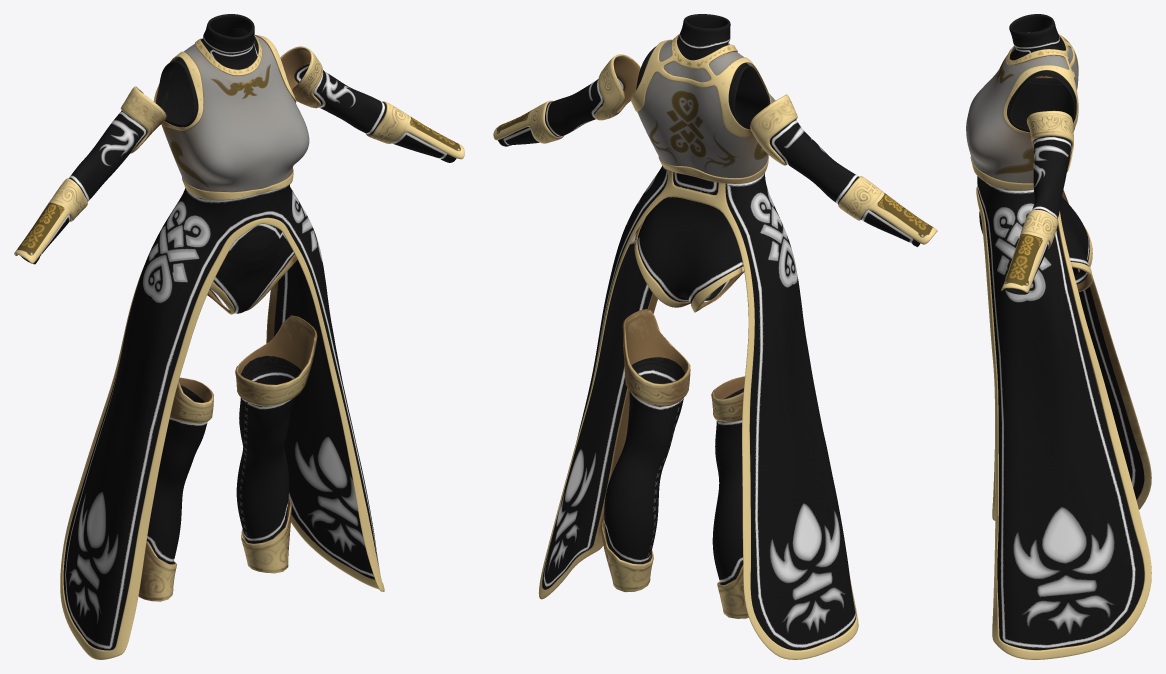
The model's file is female_armour2.glb.
The picture shows the model from 3 angles, left to right: view 1: azimuth 30°, elevation 25°; view 2: azimuth 150°, elevation 25°; view 3: azimuth 270°, elevation 25°; orthographic projection. The views are drawn at different scales.
Parts seen in each view (by area): view 1: Cloak, leg Armour, cuirass, Arm Armour, ChestArm; view 2: Cloak, leg Armour, Arm Armour, ChestArm, cuirass; view 3: Cloak, cuirass, Arm Armour, ChestArm.
Boxes of the visible parts, x1,y1,x2,y2 form: Cloak: [60, 184, 384, 659]; leg Armour: [138, 315, 317, 601]; cuirass: [153, 34, 309, 200]; Arm Armour: [14, 46, 464, 264]; ChestArm: [156, 14, 297, 314]; Cloak: [538, 165, 858, 659]; leg Armour: [600, 309, 748, 618]; Arm Armour: [493, 54, 937, 246]; ChestArm: [634, 14, 769, 312]; cuirass: [631, 33, 775, 183]; Cloak: [976, 176, 1151, 659]; cuirass: [966, 33, 1078, 190]; Arm Armour: [1001, 76, 1073, 294]; ChestArm: [979, 14, 1092, 291].
Bounding box in the file's own units: 1.78 × 2.3 × 0.6763.
5 materials, 5 textured.
